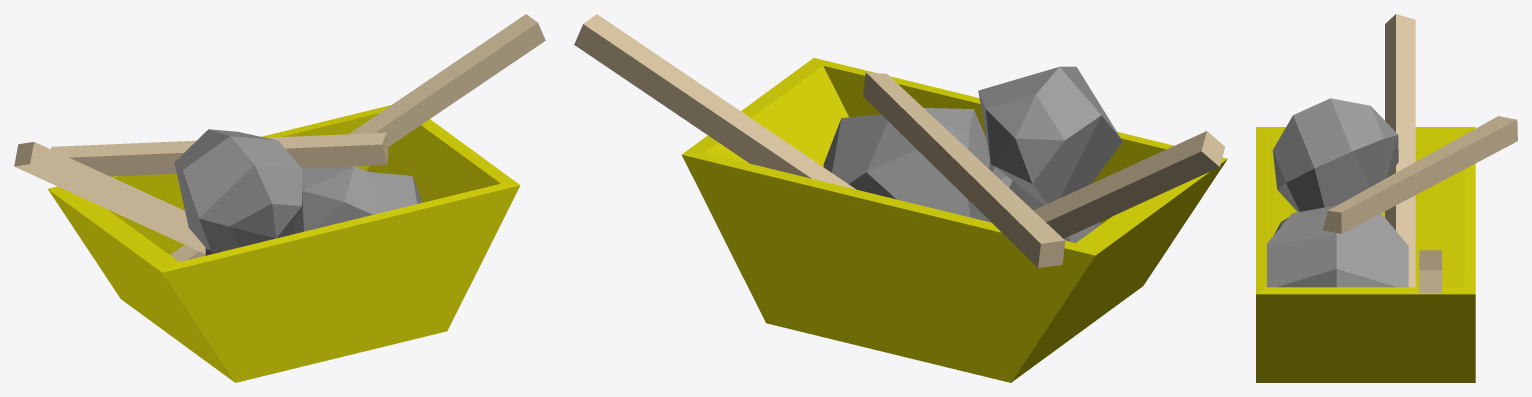
File: Prop_SkipBin_Mod_01.fbx
3 views of the same model, side by side, from view 1: azimuth 30°, elevation 25°; view 2: azimuth 150°, elevation 25°; view 3: azimuth 270°, elevation 25° (orthographic). The views are drawn at different scales.
Parts seen in each view (by area): view 1: Skip, Rubbish; view 2: Skip, Rubbish; view 3: Rubbish, Skip.
Boxes of the visible parts, left/top/right/bottom form: Skip: left=48, top=105, right=520, bottom=382; Rubbish: left=14, top=14, right=545, bottom=261; Skip: left=681, top=58, right=1227, bottom=382; Rubbish: left=574, top=14, right=1224, bottom=268; Rubbish: left=1267, top=14, right=1517, bottom=292; Skip: left=1256, top=127, right=1475, bottom=382.
Size of the model in its own units: 7.52 by 2.92 by 3.3.
